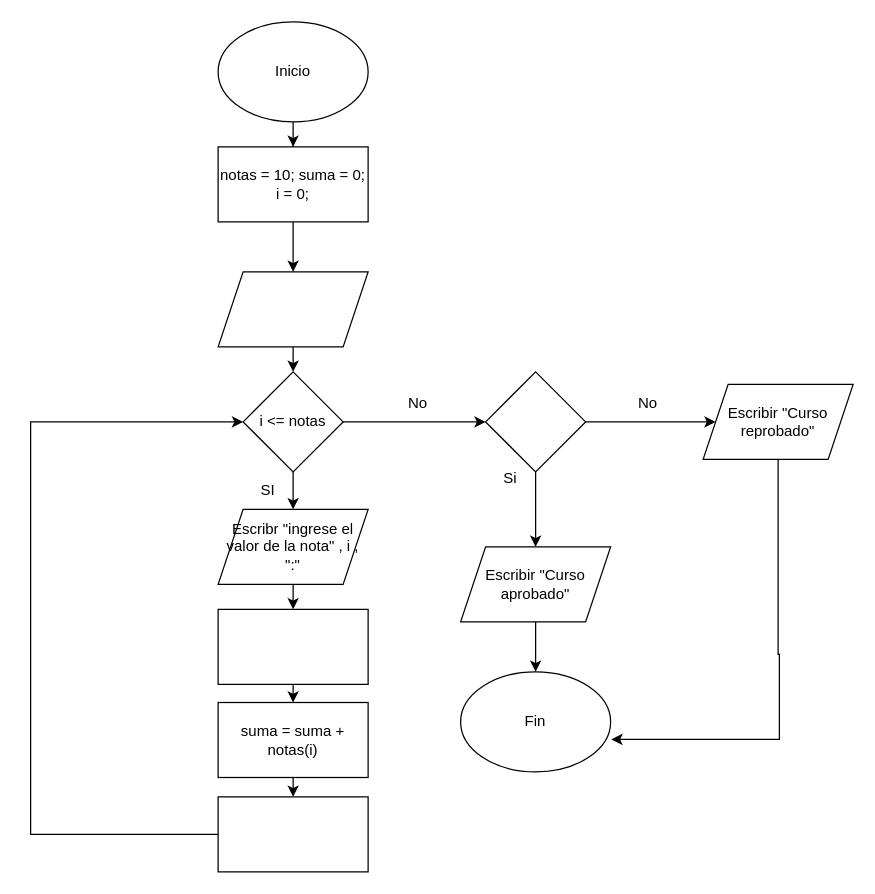
Image size: 875x894. Some labels were removed from this diagram. Here are the shapes that lost their labels. From the top down, the centre of each, then its label:
the point at 292,309: Escribir "Ingrese la nota de las actividades"
the point at 535,421: suma >= 65
the point at 292,646: Leer notas(i)
the point at 292,834: i = i +1
